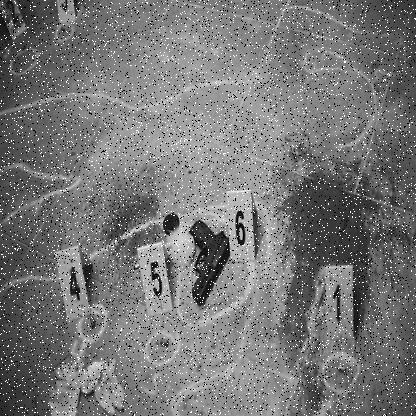pistol: (187, 216, 230, 310)
